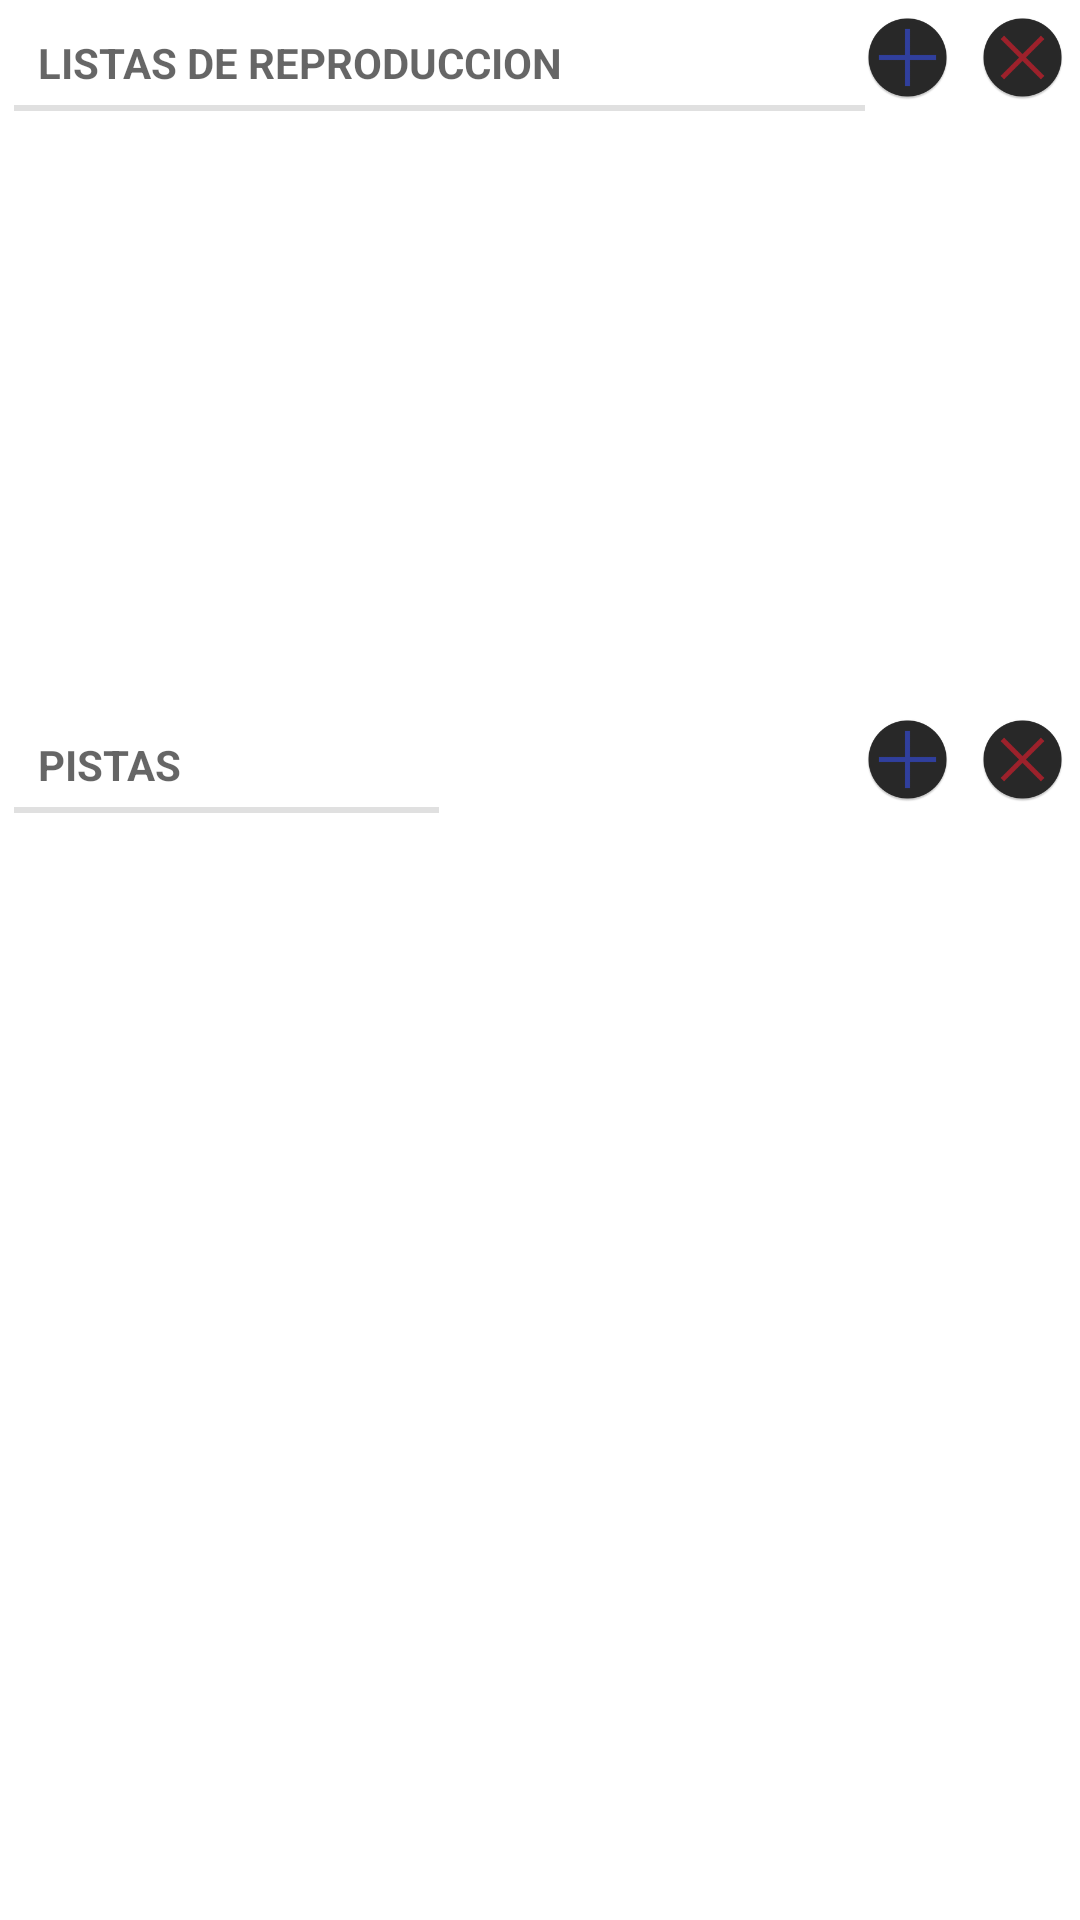

Screen size 1080 × 1920. Icon name, then its center in pixels as (x=x, y=y):
agregar: (x=907, y=58), (x=907, y=760)
quitar: (x=1022, y=58), (x=1022, y=760)
